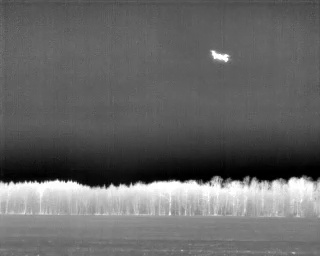DRONE: (206, 45, 234, 68)
